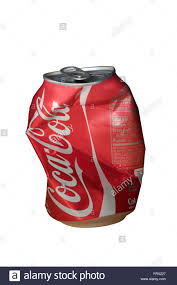coke: (26, 90, 101, 225)
